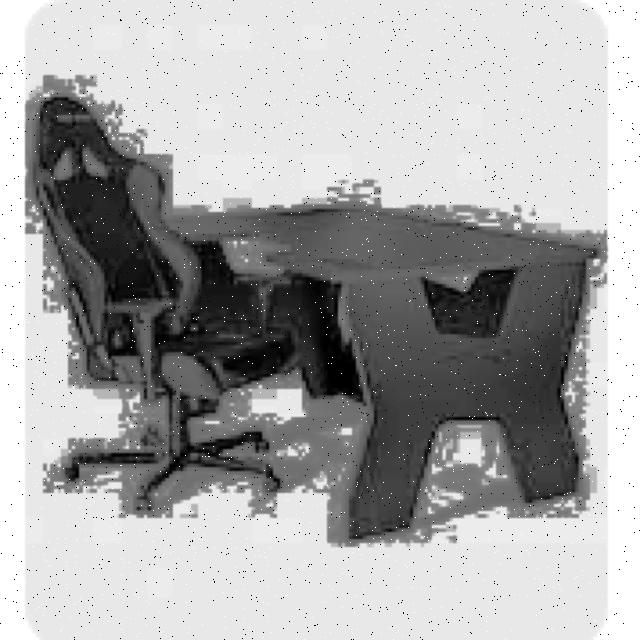book: (32, 94, 306, 514)
table: (165, 202, 604, 540)
